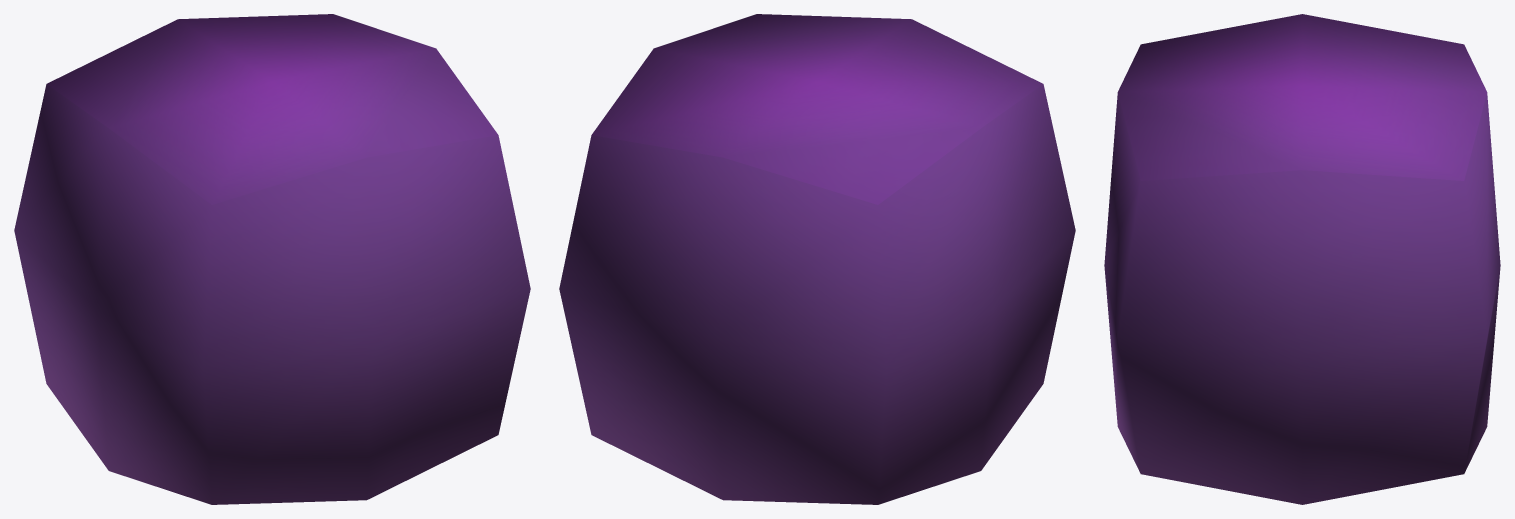
The model's file is ball_small_purple.fbx.
The picture shows the model from 3 angles, left to right: view 1: azimuth 30°, elevation 25°; view 2: azimuth 150°, elevation 25°; view 3: azimuth 270°, elevation 25°; orthographic projection. The views are drawn at different scales.
Visible parts, largest first — view 1: ball_small_purple; view 2: ball_small_purple; view 3: ball_small_purple.
Part boxes in pixels (left/top/right/bottom): ball_small_purple: left=14, top=14, right=530, bottom=504; ball_small_purple: left=559, top=14, right=1075, bottom=504; ball_small_purple: left=1104, top=14, right=1500, bottom=504.
Size of the model in its own units: 24.5 by 23.26 by 24.5.
Materials: 1 (1 with a texture image).
